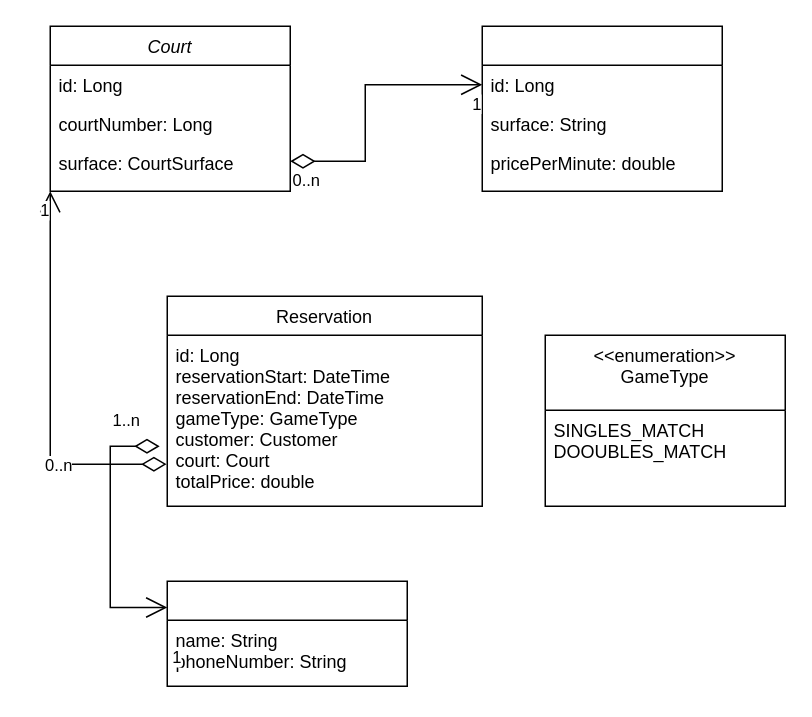
Image size: 812x717. Some labels were removed from this diagram. Here are the shapes that lost their labels. From the top down, the box of each, then its label:
(481, 25, 722, 191): CourtSurface
(166, 580, 407, 686): Customer
